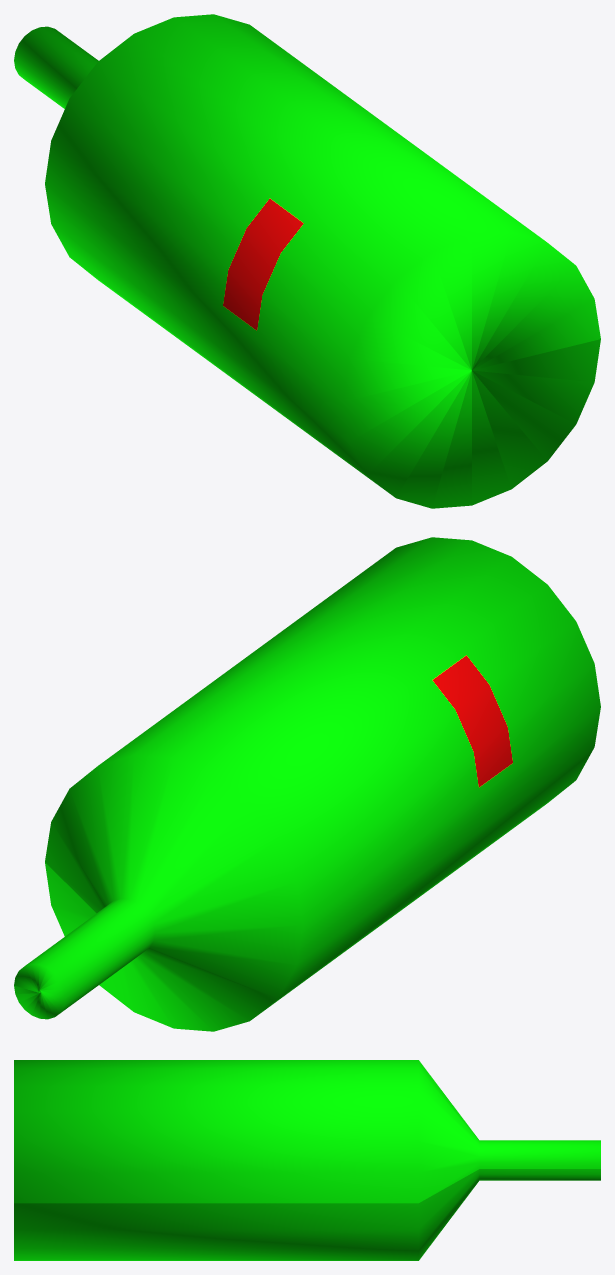
The model's file is limonade_col.fbx.
3 views of the same model, one above another, from view 1: azimuth 30°, elevation 25°; view 2: azimuth 150°, elevation 25°; view 3: azimuth 270°, elevation 25° (orthographic). The views are drawn at different scales.
Parts seen in each view (by area): view 1: Plane; view 2: Plane; view 3: Plane.
Boxes of the visible parts, box(x1,y1,x2,y2) form: Plane: box(14, 14, 600, 508); Plane: box(14, 537, 600, 1031); Plane: box(14, 1060, 600, 1260).
Bounding box in the file's own units: 1 × 1 × 2.9.
1 material, 1 textured.
